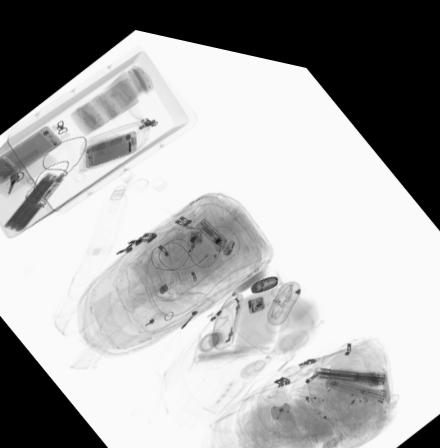Powerbank: (0, 167, 65, 230)
